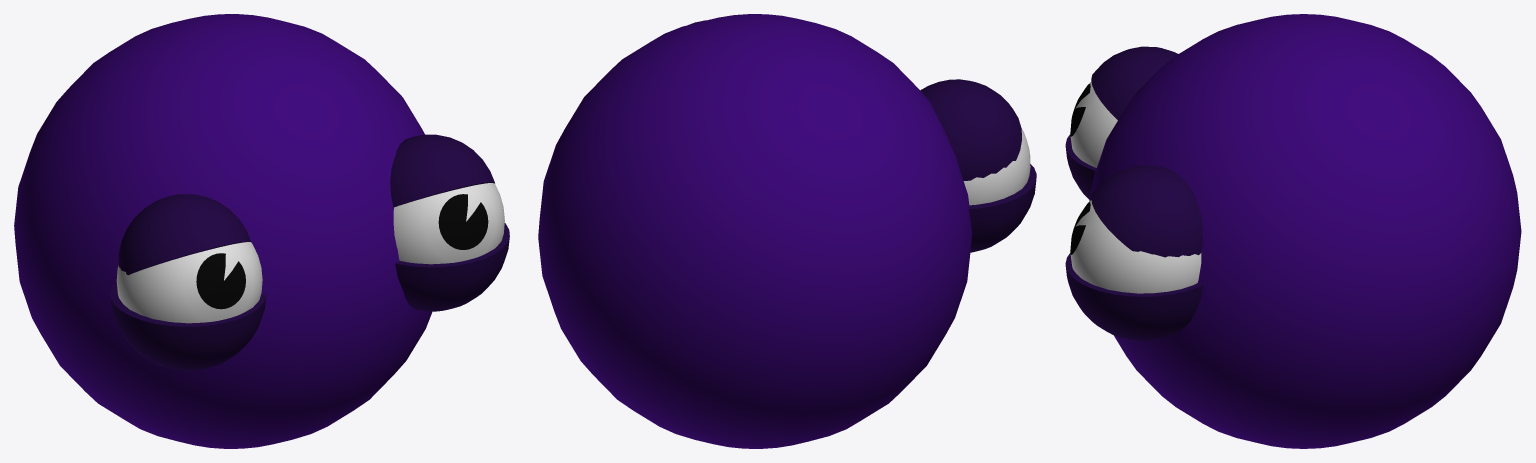
Rendered from Char_Head_Purple.FBX.
3 views of the same model, side by side, from view 1: azimuth 30°, elevation 25°; view 2: azimuth 150°, elevation 25°; view 3: azimuth 270°, elevation 25° (orthographic).
Visible parts, largest first — view 1: PupleSphere; view 2: PupleSphere; view 3: PupleSphere.
Boxes of the visible parts, <box> form: PupleSphere: <box>14,14,509,448</box>; PupleSphere: <box>538,14,1036,448</box>; PupleSphere: <box>1065,14,1521,448</box>.
Size of the model in its own units: 14.51 by 14.42 by 15.11.
